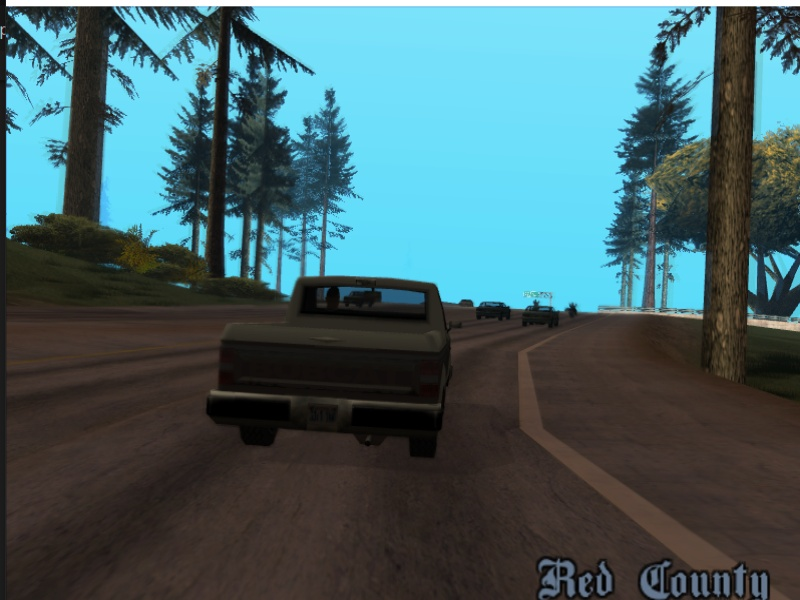tree: (702, 5, 756, 383), (205, 9, 230, 284)
vehicle: (201, 260, 458, 470), (522, 300, 561, 330), (476, 299, 512, 324)
